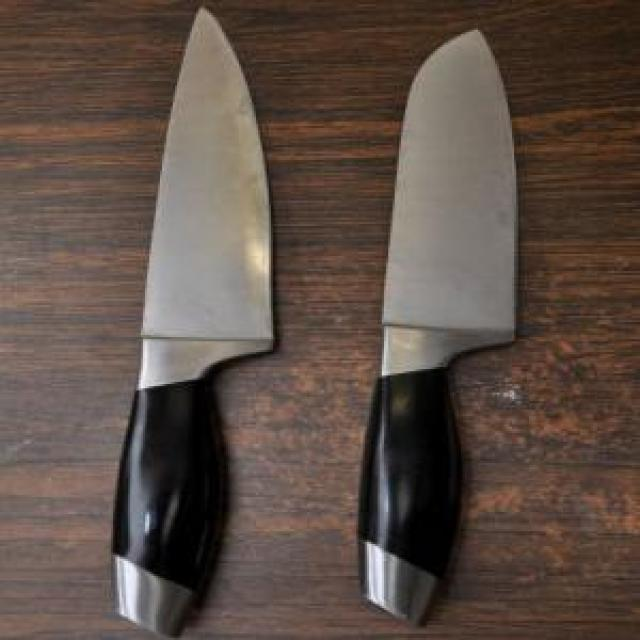knife: (113, 2, 292, 639), (367, 28, 506, 632)
